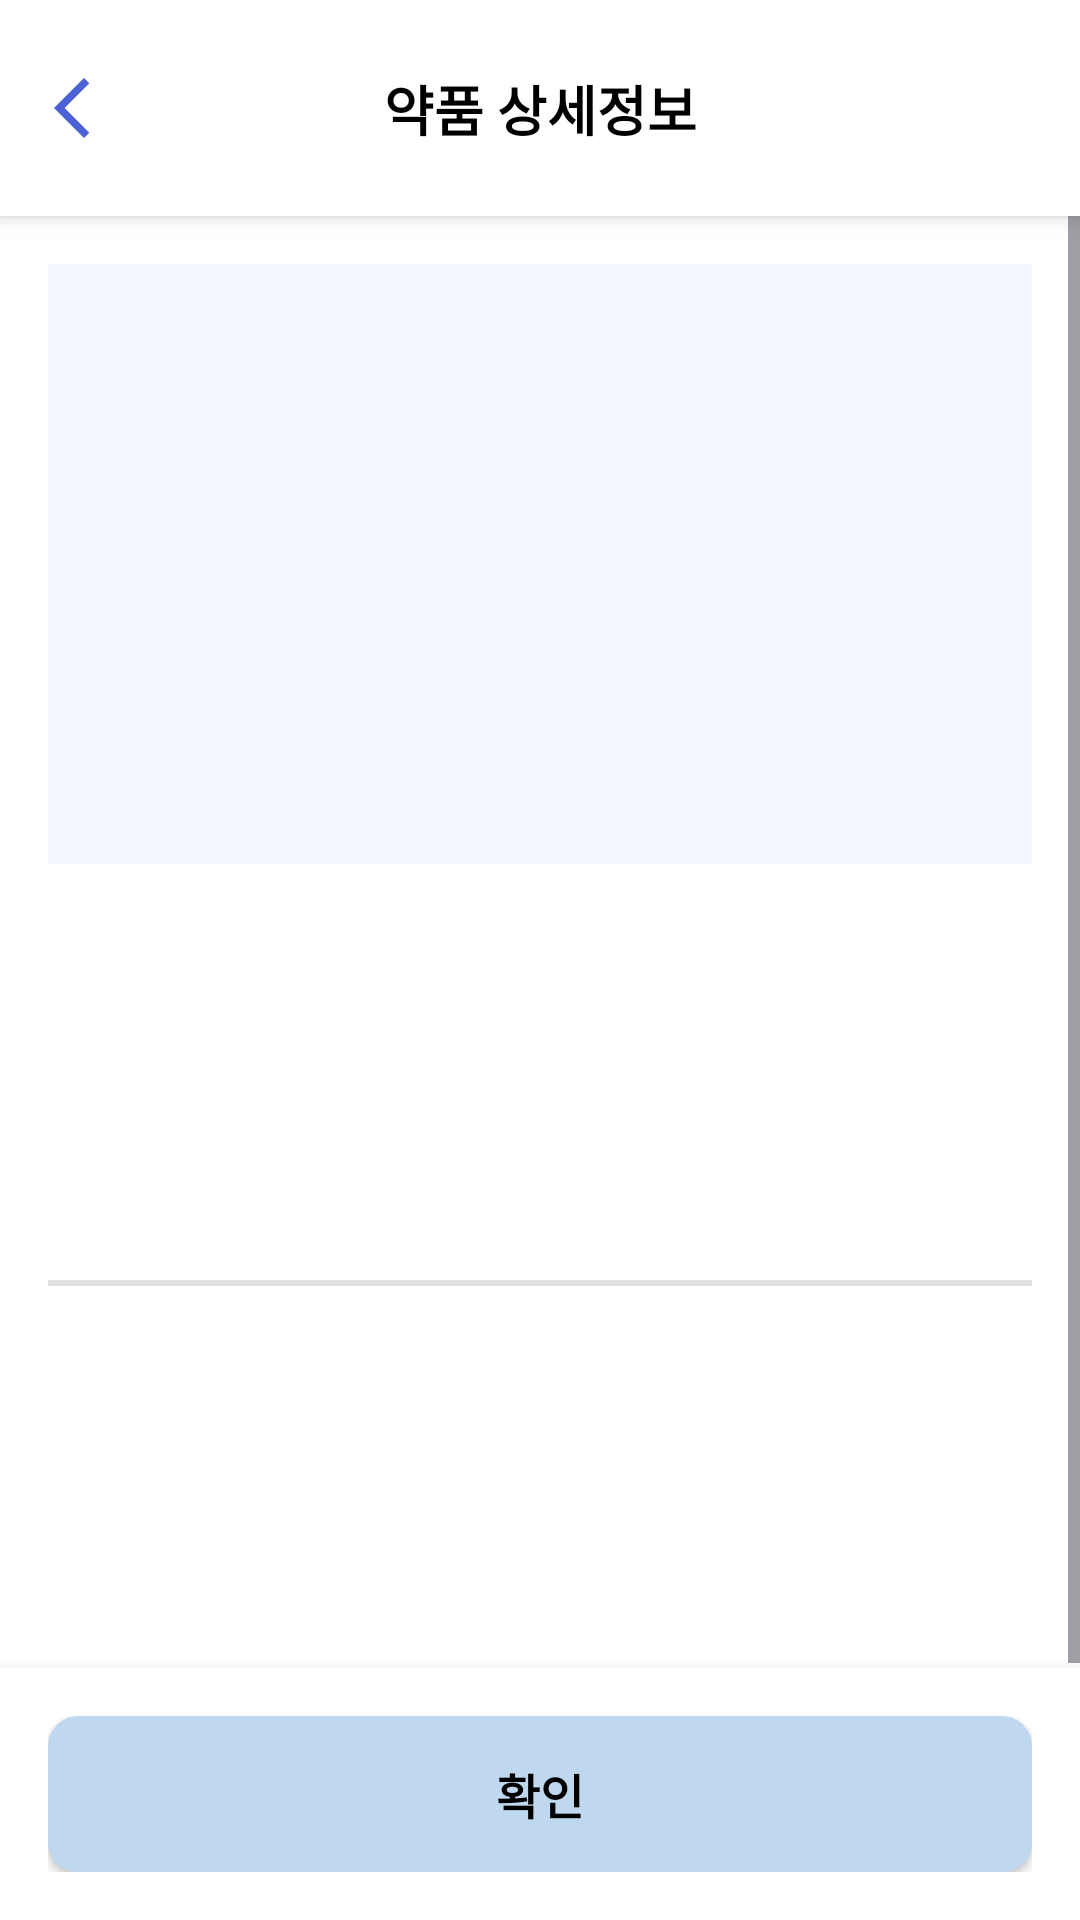

Icon click points for this 1080px×1920px phone screenshot, format [x,y]:
뒤로가기: [71,108]
